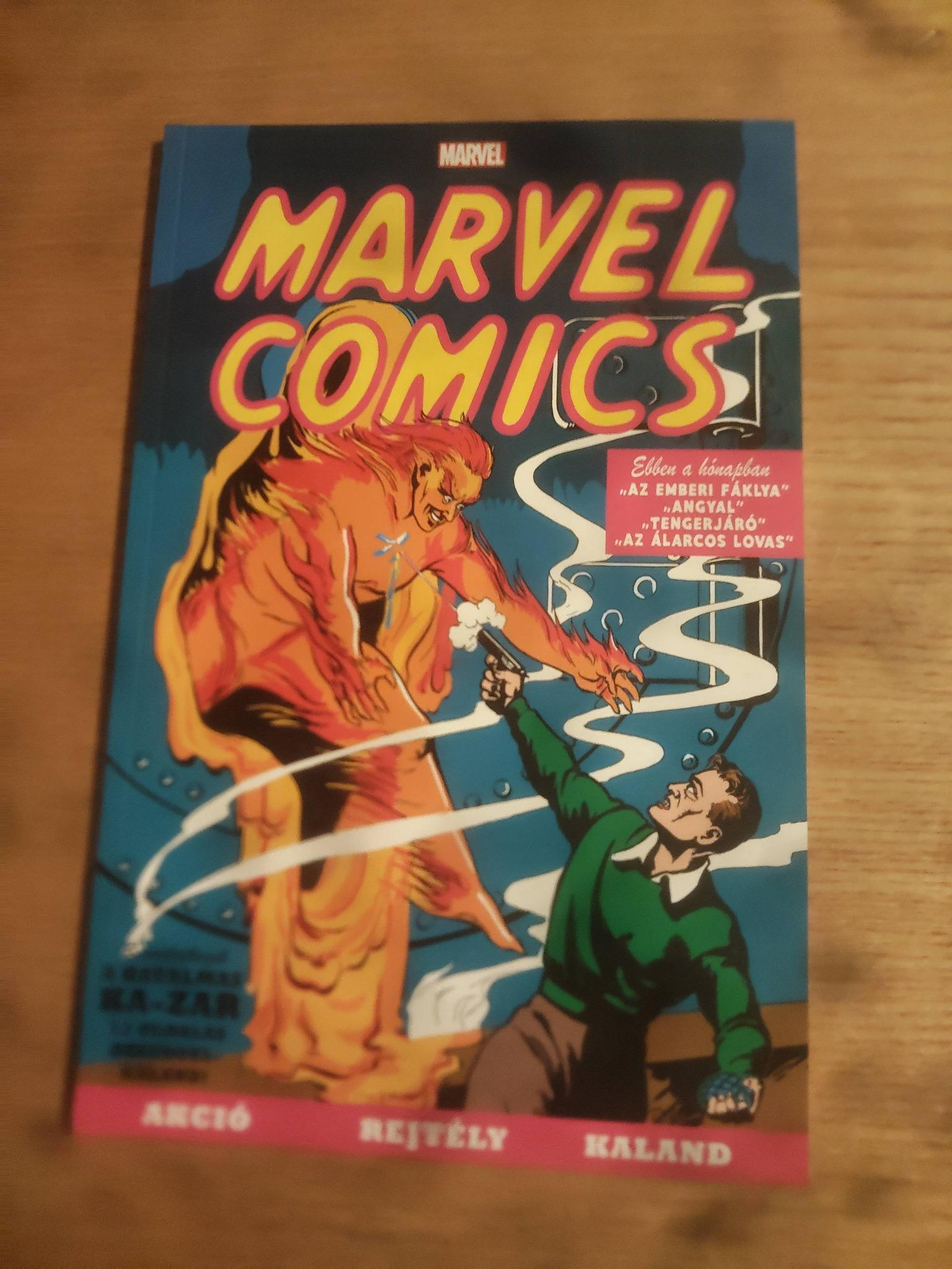comic: (72, 113, 820, 1183)
